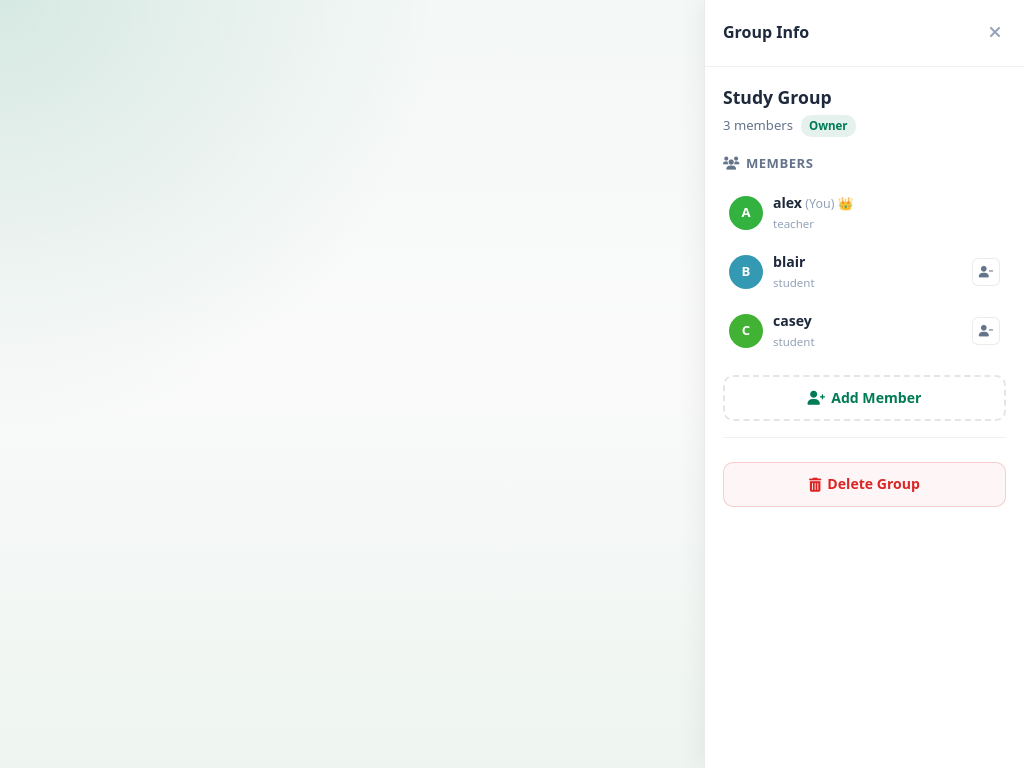
it: GroupInfoPanel › shows owner-only controls for group owners, including add member and popup kick
Check: the text "Study Group" is shown, box left=723, top=85, right=832, bottom=109
Check: the text "Owner" is shown, box left=801, top=115, right=856, bottom=137
Click the text "B" at (746, 272), box left=729, top=255, right=763, bottom=289
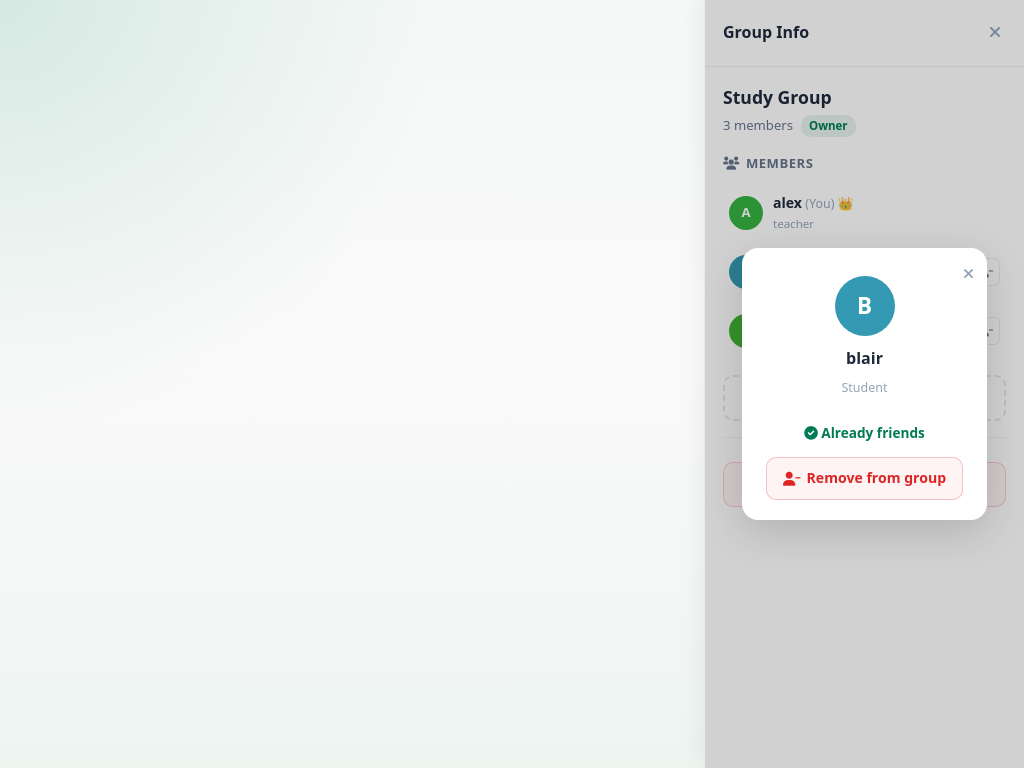
Check: the button "Remove from group" is shown, box left=766, top=457, right=963, bottom=500
